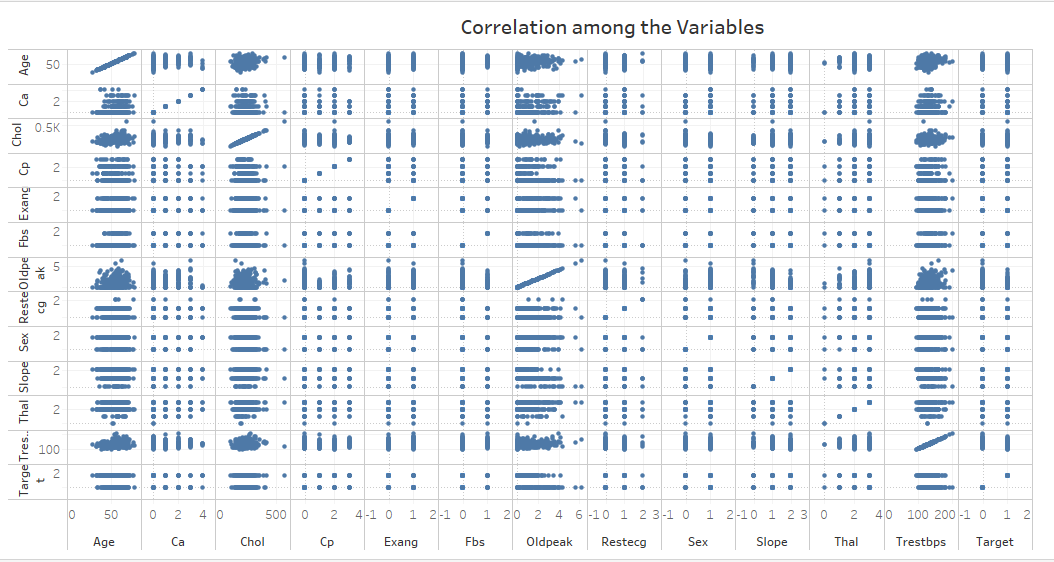

The page's visual inventory and layout, read from the dashboard file:
{"tool":"tableau","page":{"name":"Dashboard 1","canvas":[650,860],"ordinal":0},"visuals":[{"type":"worksheet","title":"Sheet 1","mark":"Circle","rows":["age","ca","chol","cp","exang","fbs","oldpeak","restecg","sex","slope","thal","trestbps"],"cols":["age","ca","chol","cp","exang","fbs","oldpeak","restecg","sex","slope","thal","trestbps"],"box":[8,8.3,634,843.5]}]}

Visuals, with their boxes on the page's 650x860 design canvas (x1, y1, x2, y2). These are canvas units, not pixel positions in the 1054x562 screenshot, which may show the page scaled, cropped or inside an application window:
"Sheet 1" worksheet (Circle marks): 8:8:642:852
